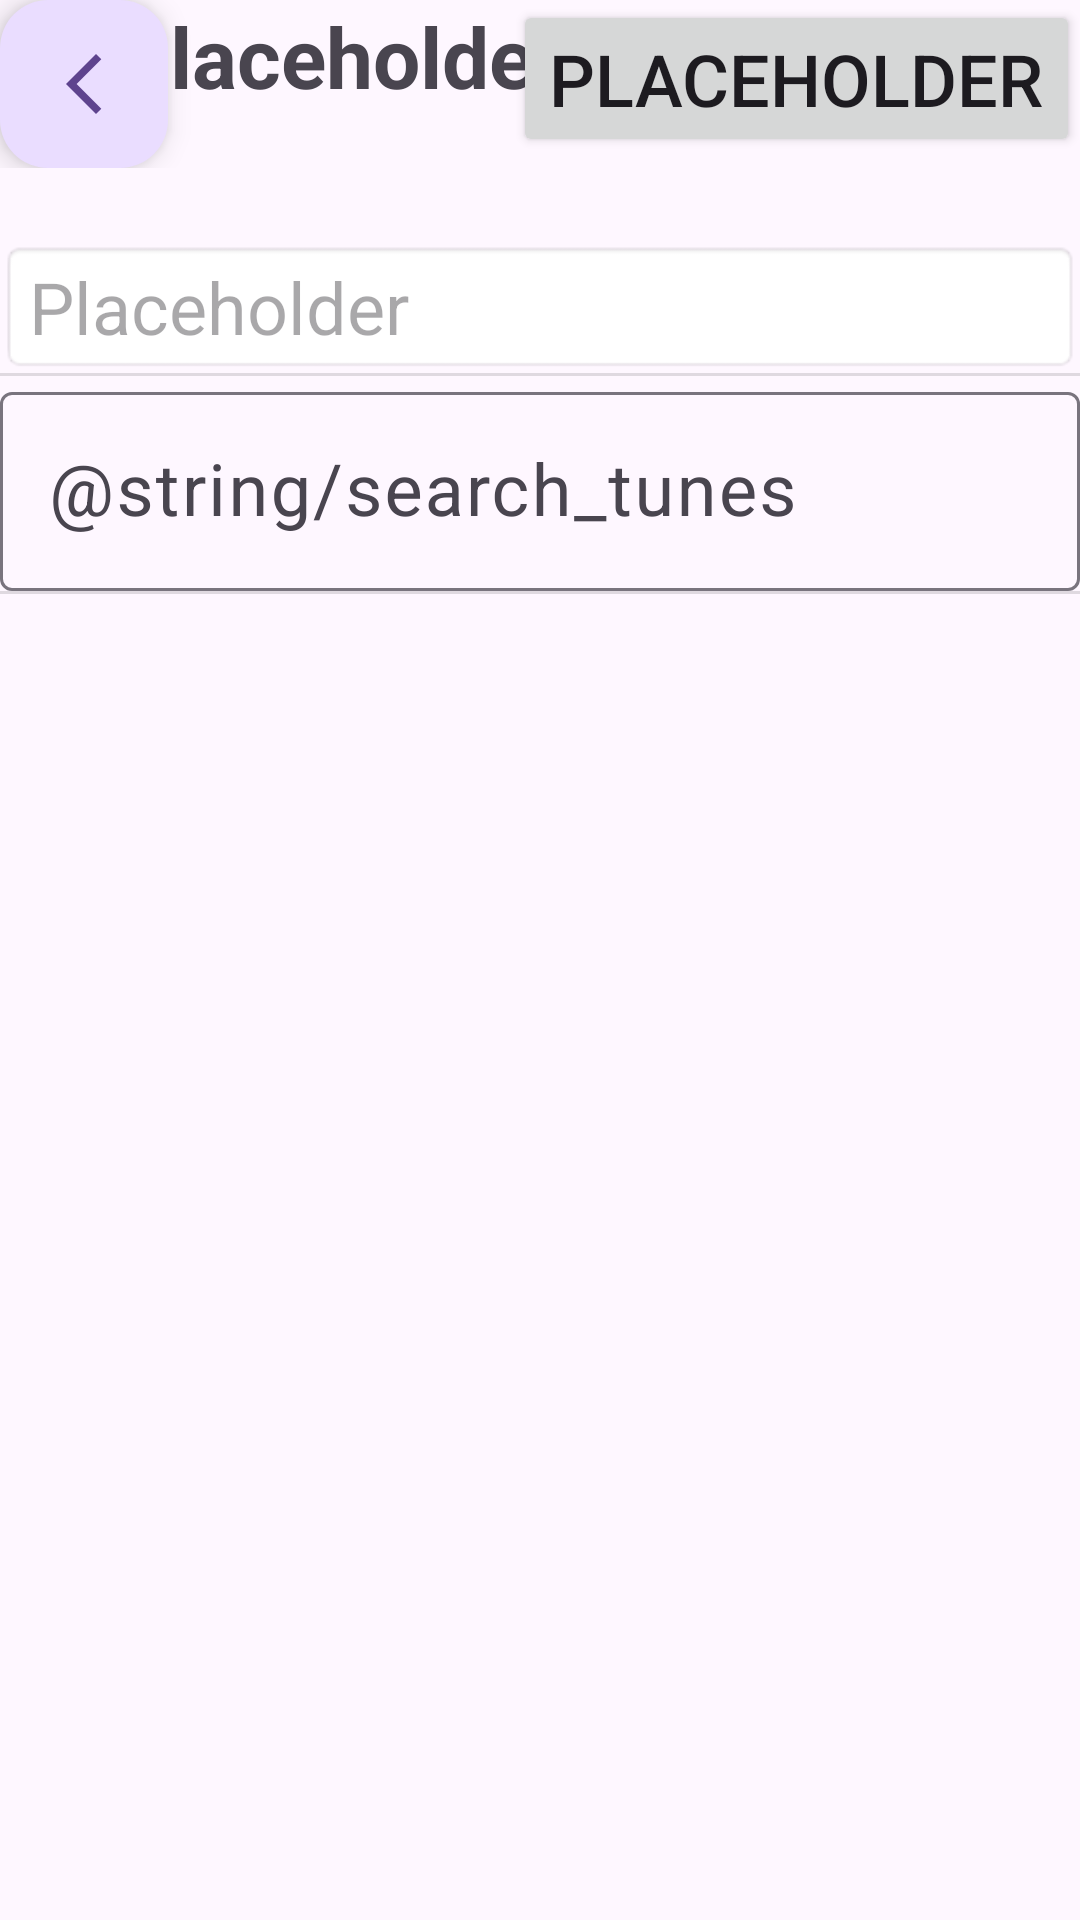

Icon bounding boxes for this 1080 × 1920 phone screenshot, format (x1, y1, x2, y2):
Back: (0, 0, 168, 168)
